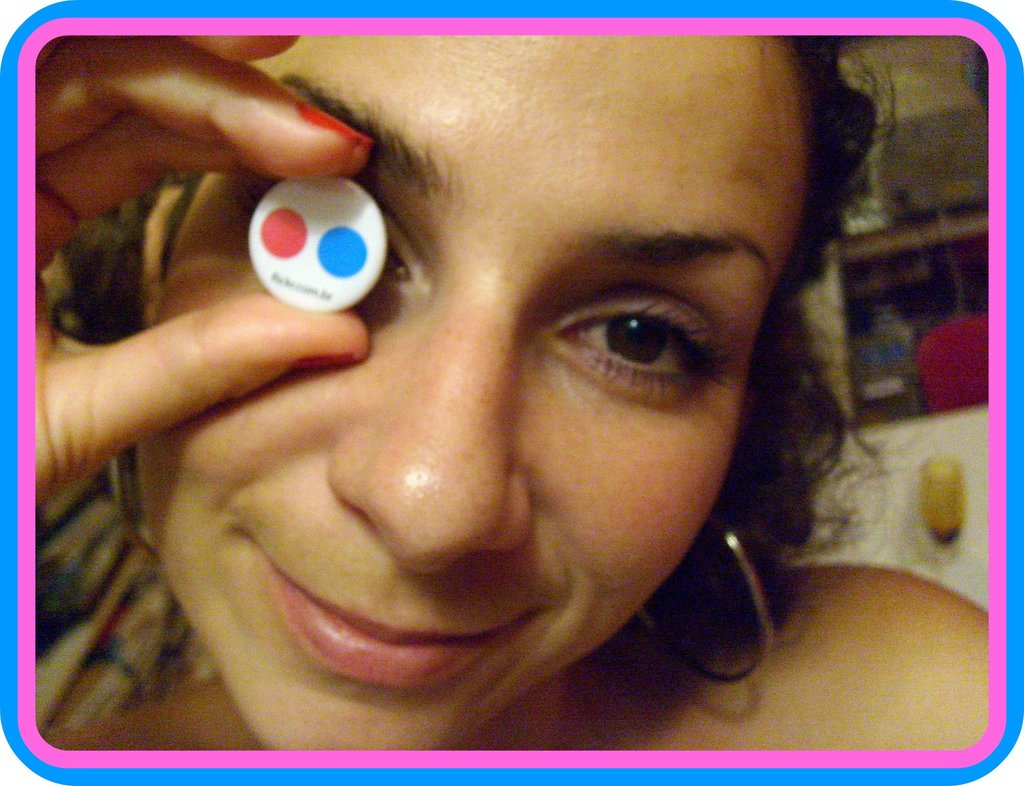Human_hand: (36, 36, 372, 509)
